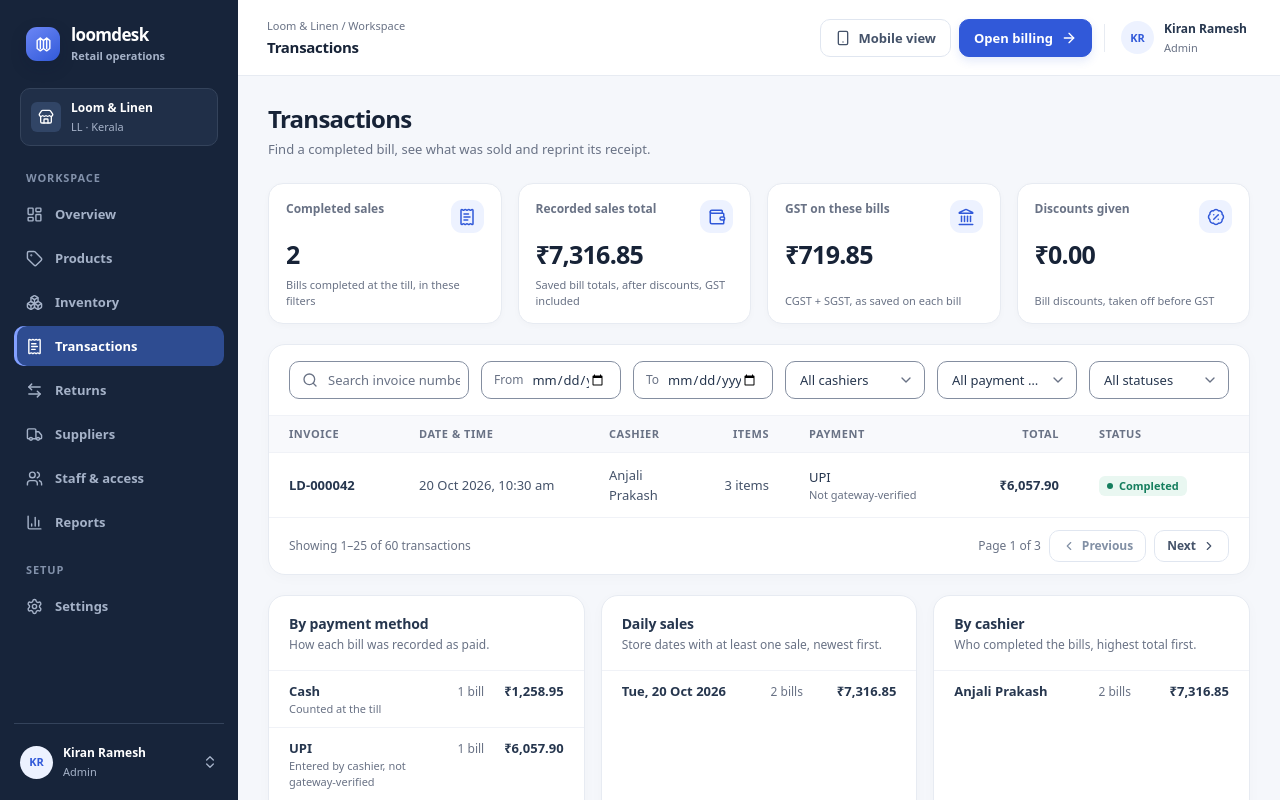
transactions list › pages through results on the server
This screenshot has width=1280, height=800.
expect the heading "Transactions" is shown: met, box [268, 102, 411, 135]
expect the text "Showing 1–25 of 60 transactions" is shown: met, box [289, 537, 471, 555]
Click the button "Next". click: (1192,546)
box: [1154, 530, 1229, 562]
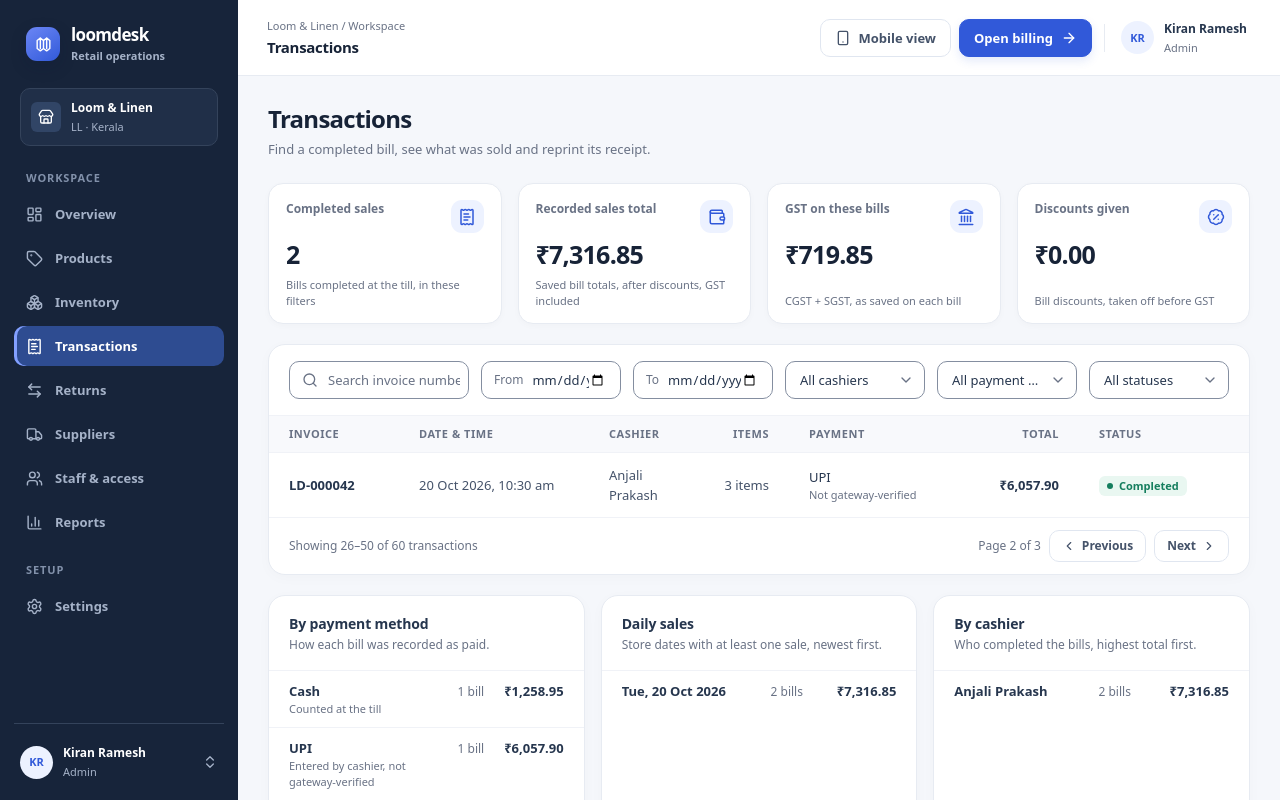
expect the text "Showing 26–50 of 60 transactions" is shown: met, box [289, 537, 478, 555]
